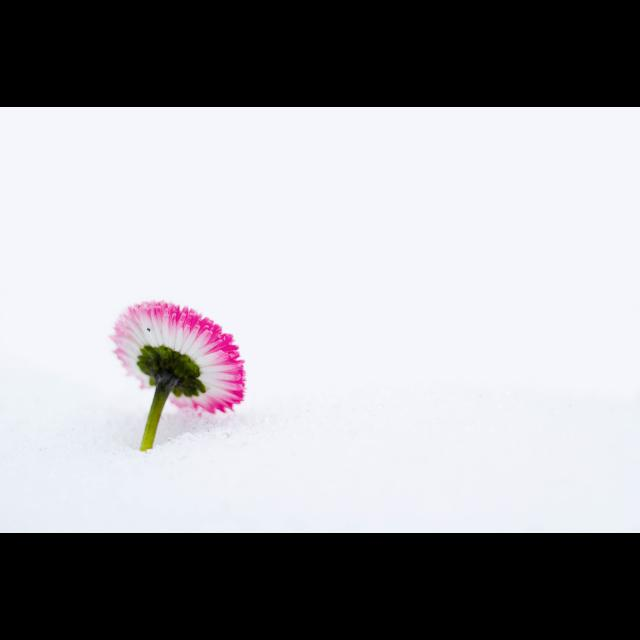Flower: (101, 297, 252, 439)
